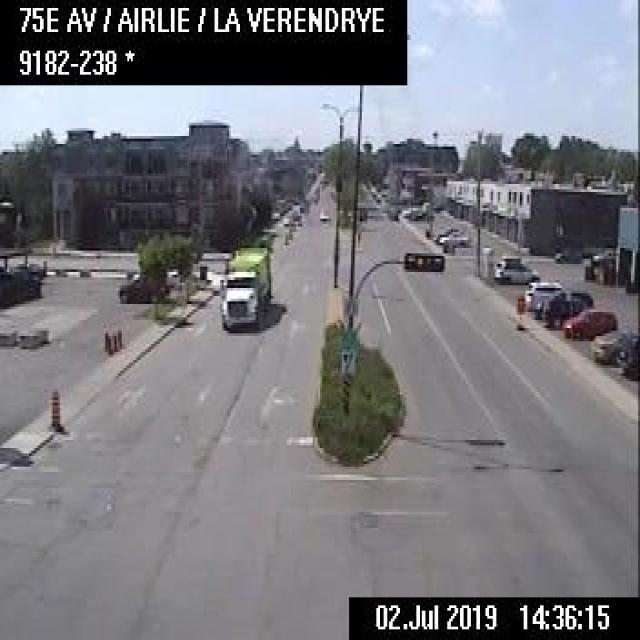construction: (47, 384, 60, 432), (512, 293, 524, 313), (222, 251, 229, 272), (115, 325, 121, 348), (110, 329, 116, 351), (102, 328, 108, 349), (106, 330, 111, 353), (286, 225, 292, 239), (282, 230, 288, 243), (291, 218, 295, 231)
vehicle: (218, 240, 271, 328), (560, 306, 618, 339), (542, 288, 592, 324), (592, 327, 637, 363), (116, 274, 164, 300), (522, 280, 562, 310), (493, 259, 539, 284), (530, 288, 560, 316), (616, 344, 638, 379), (438, 230, 468, 246), (400, 204, 423, 218), (317, 209, 330, 221)
